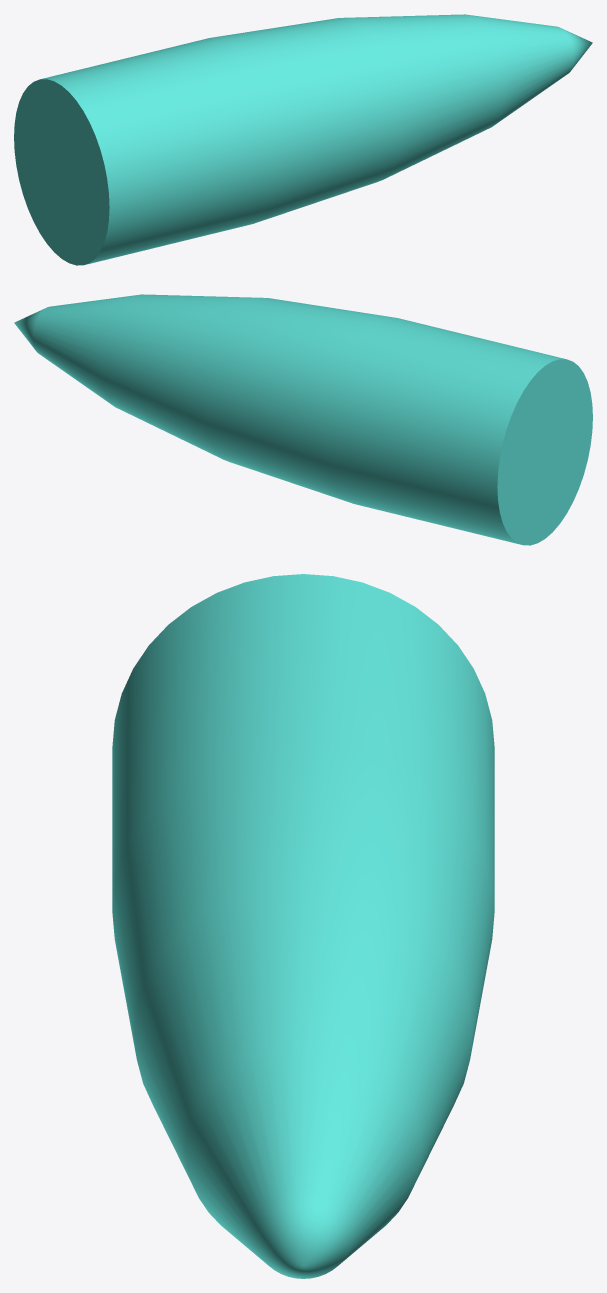
The model's file is bala_diamante.obj.
3 views of the same model, one above another, from view 1: azimuth 30°, elevation 25°; view 2: azimuth 150°, elevation 25°; view 3: azimuth 270°, elevation 25° (orthographic). The views are drawn at different scales.
Size of the model in its own units: 0.1004 by 0.0313 by 0.0313.
